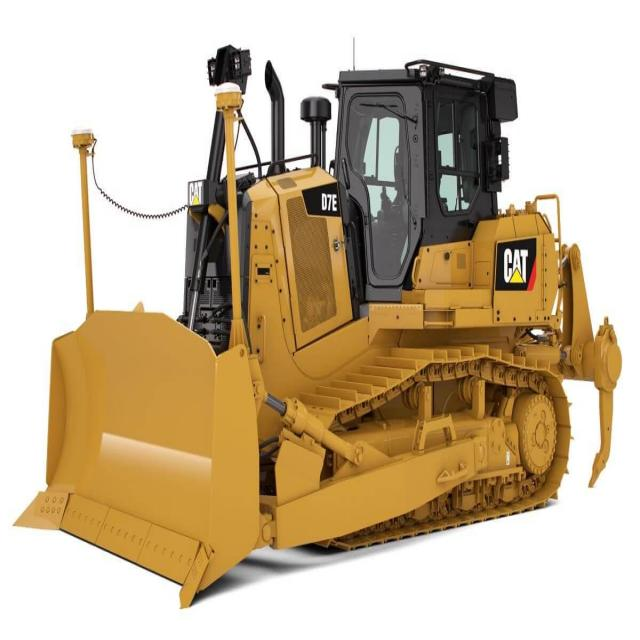Bulldozer: (32, 31, 640, 602)
